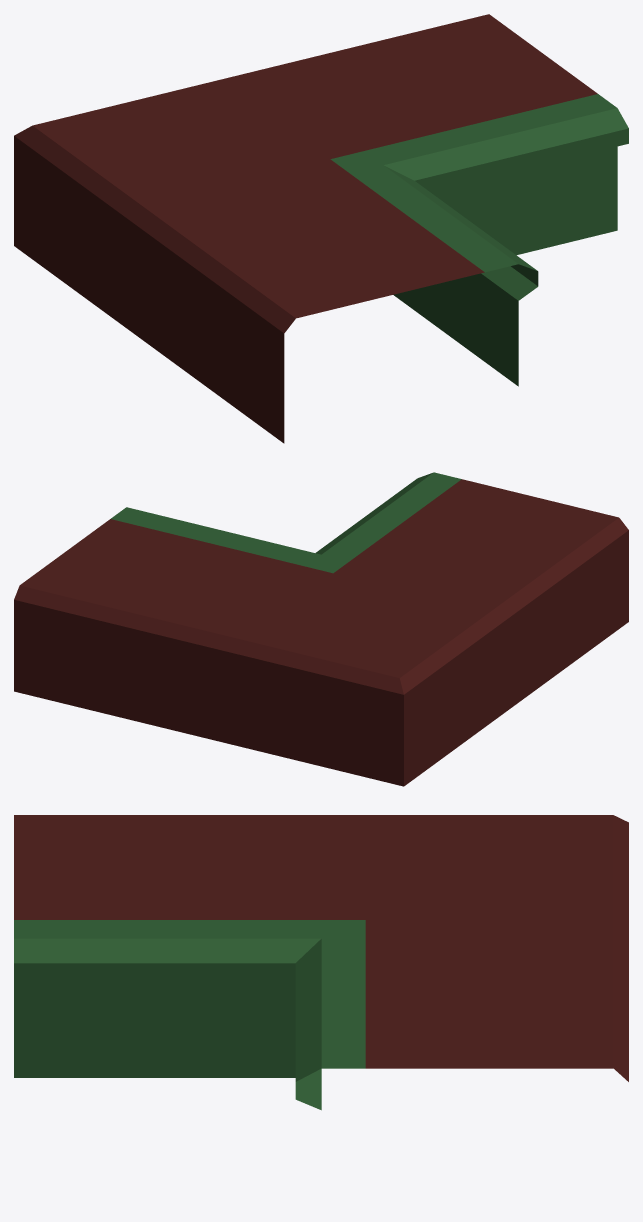
The model's file is PoolTable.fbx_PoolTableCorner.fbx.
3 views of the same model, one above another, from view 1: azimuth 30°, elevation 25°; view 2: azimuth 150°, elevation 25°; view 3: azimuth 270°, elevation 25° (orthographic). The views are drawn at different scales.
Parts seen in each view (by area): view 1: PoolTableCorner; view 2: PoolTableCorner; view 3: PoolTableCorner.
Part boxes in pixels (bbox=[...]): PoolTableCorner: bbox=[14, 14, 628, 443]; PoolTableCorner: bbox=[14, 472, 628, 786]; PoolTableCorner: bbox=[14, 815, 628, 1110].
Bounding box in the file's own units: 4 × 1 × 4.
